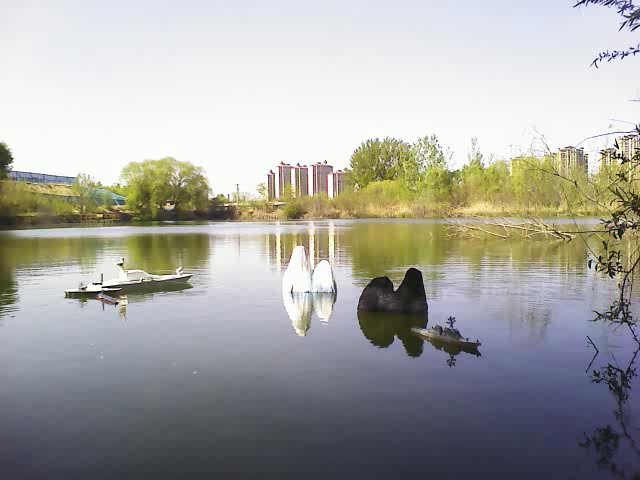aircraft_carrier: (65, 280, 122, 298)
boat: (98, 260, 200, 293)
iceberg: (277, 239, 337, 301)
rock: (356, 266, 433, 314)
submarine: (98, 291, 137, 309)
warship: (406, 310, 483, 350)
